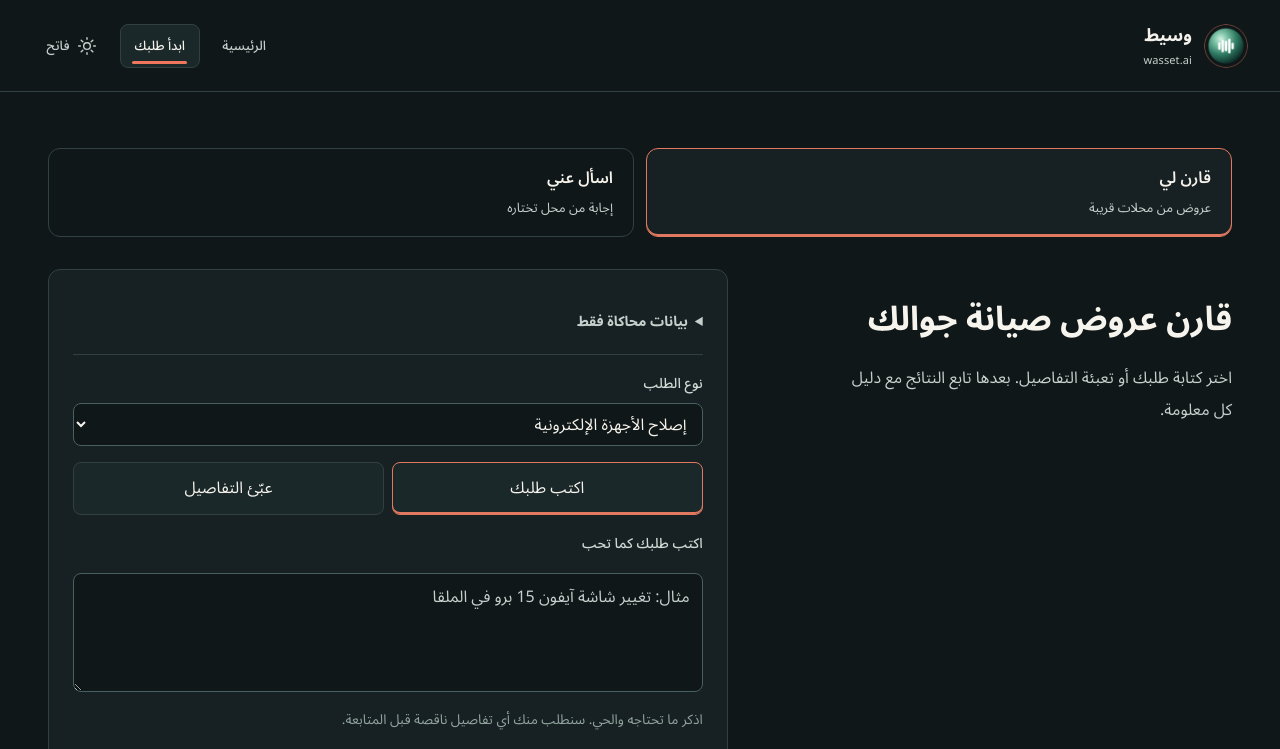
Test: preserves unsent drafts for both modes across route changes
This screenshot has width=1280, height=749.
Type "تغيير شاشة جوالي" into the text box named "وش تبي تصلّح؟". click: (388, 632)
box: [73,573,703,692]
Click the button "اسأل عني إجابة من محل تختاره". click: (580, 178)
box: [48,148,634,237]
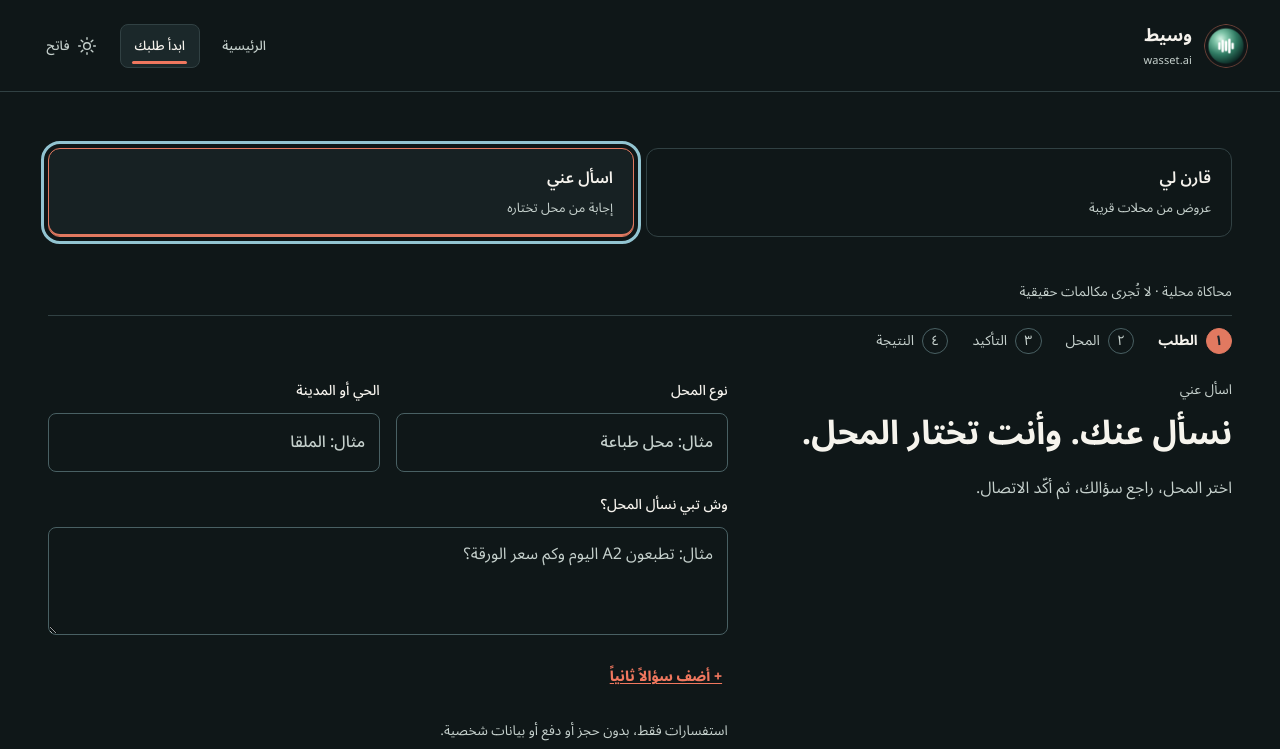
Type "محل طباعة" into the field labelled "نوع المحل". click: (562, 442)
box: [396,412,728,472]
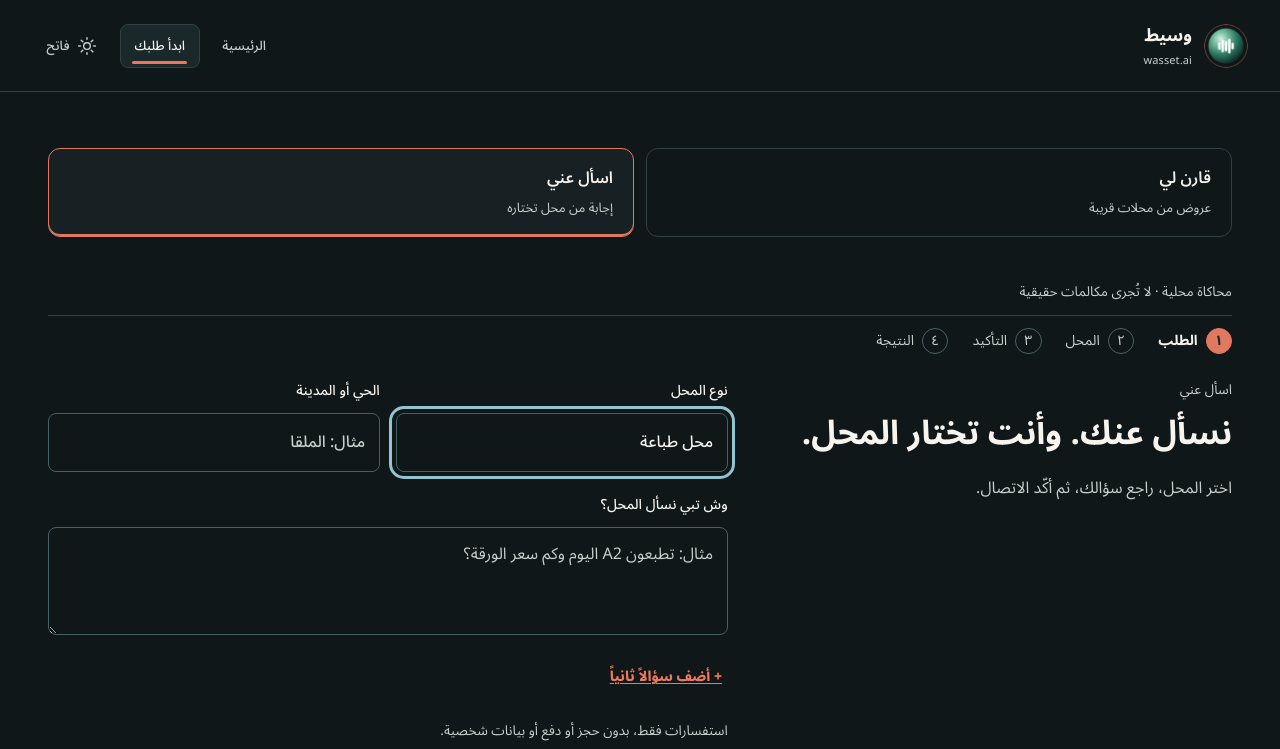
Type "تطبعون A3؟" into the text box labelled "وش تبي نسأل المحل؟". click: (388, 581)
box: [48,527,728,635]
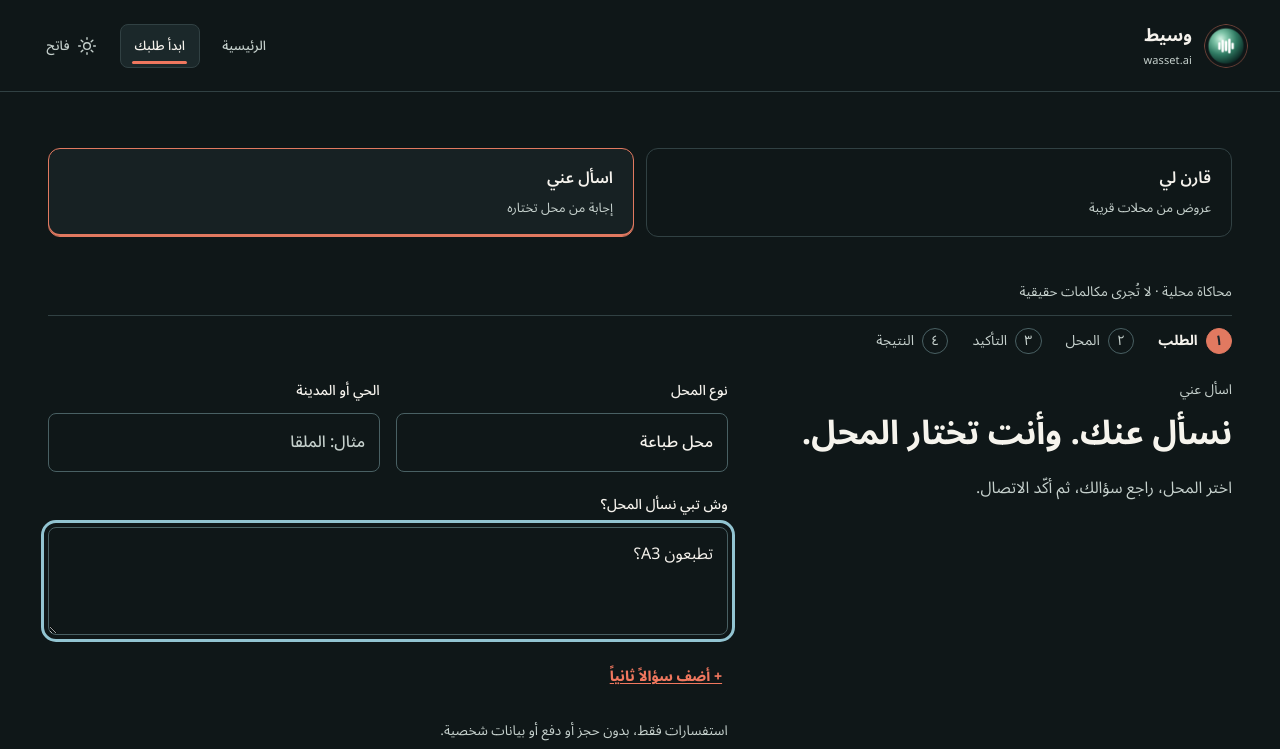
Click the link "الرئيسية". click: (244, 46)
box: [222,32,266,60]
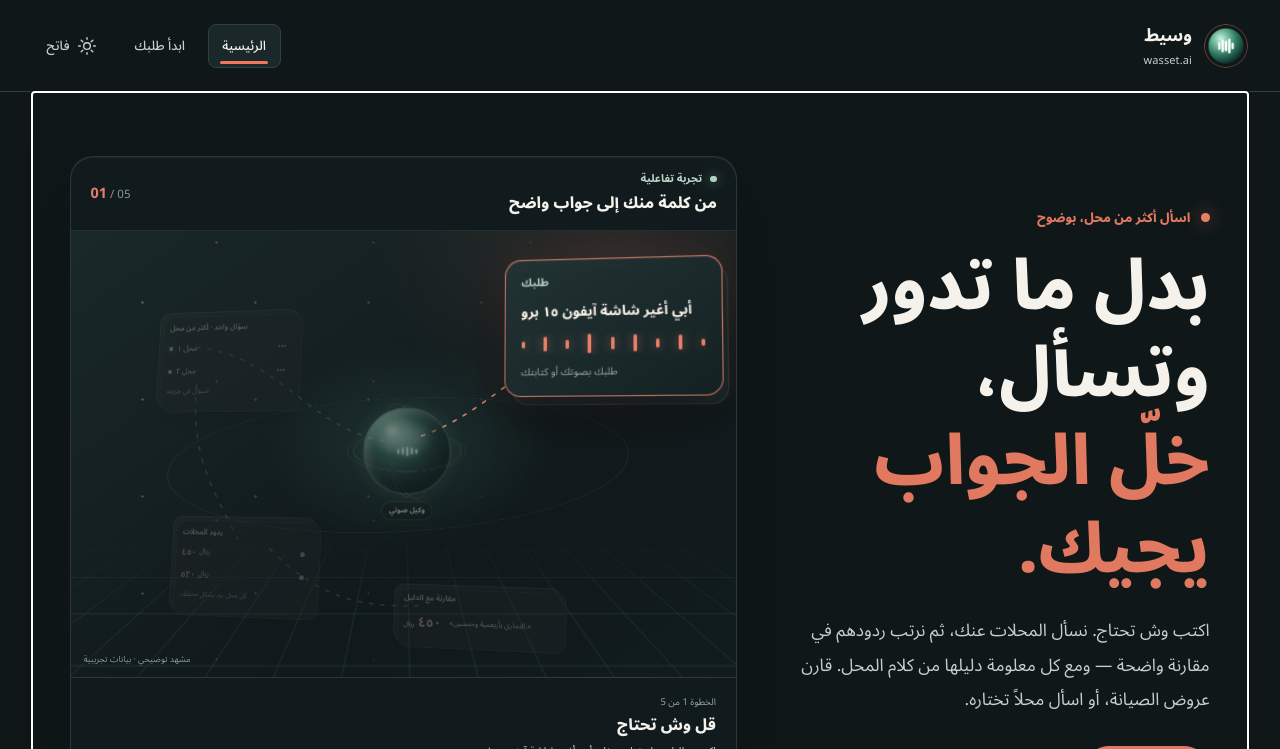
Click the link "ابدأ طلبك" next to "الرئيسية". click: (160, 46)
box: [135,32,185,60]
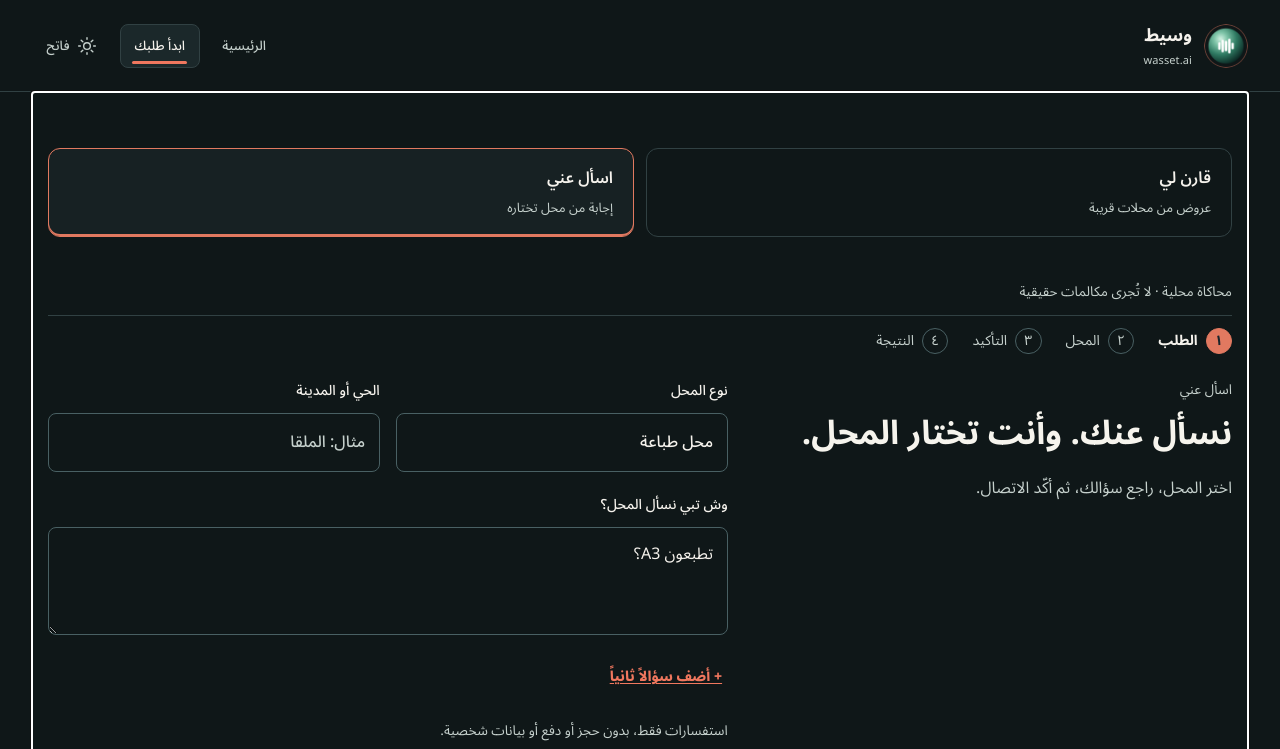
Result: the text box labelled "وش تبي نسأل المحل؟" holds "تطبعون A3؟" at [48,527,728,635]
Click the button "قارن لي عروض من محلات قريبة". click: (1185, 178)
box: [646,148,1232,237]
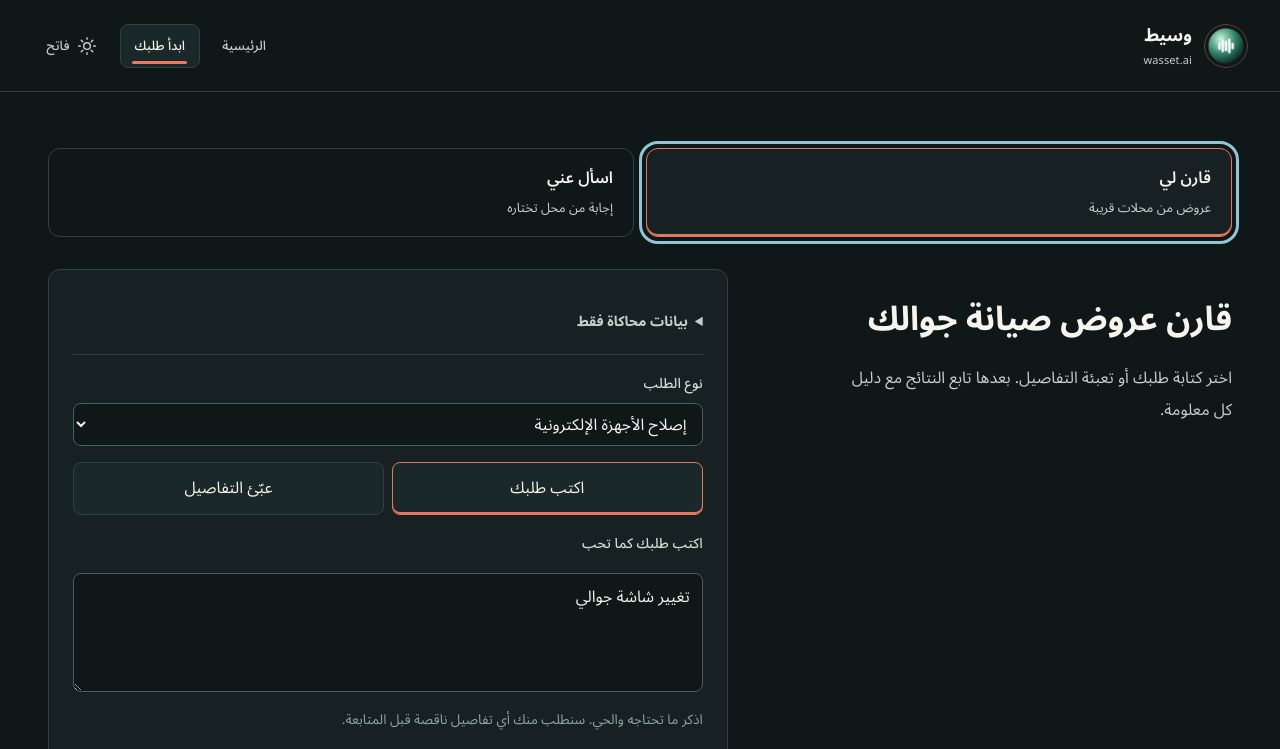
Result: the text box named "وش تبي تصلّح؟" holds "تغيير شاشة جوالي" at [73,573,703,692]
